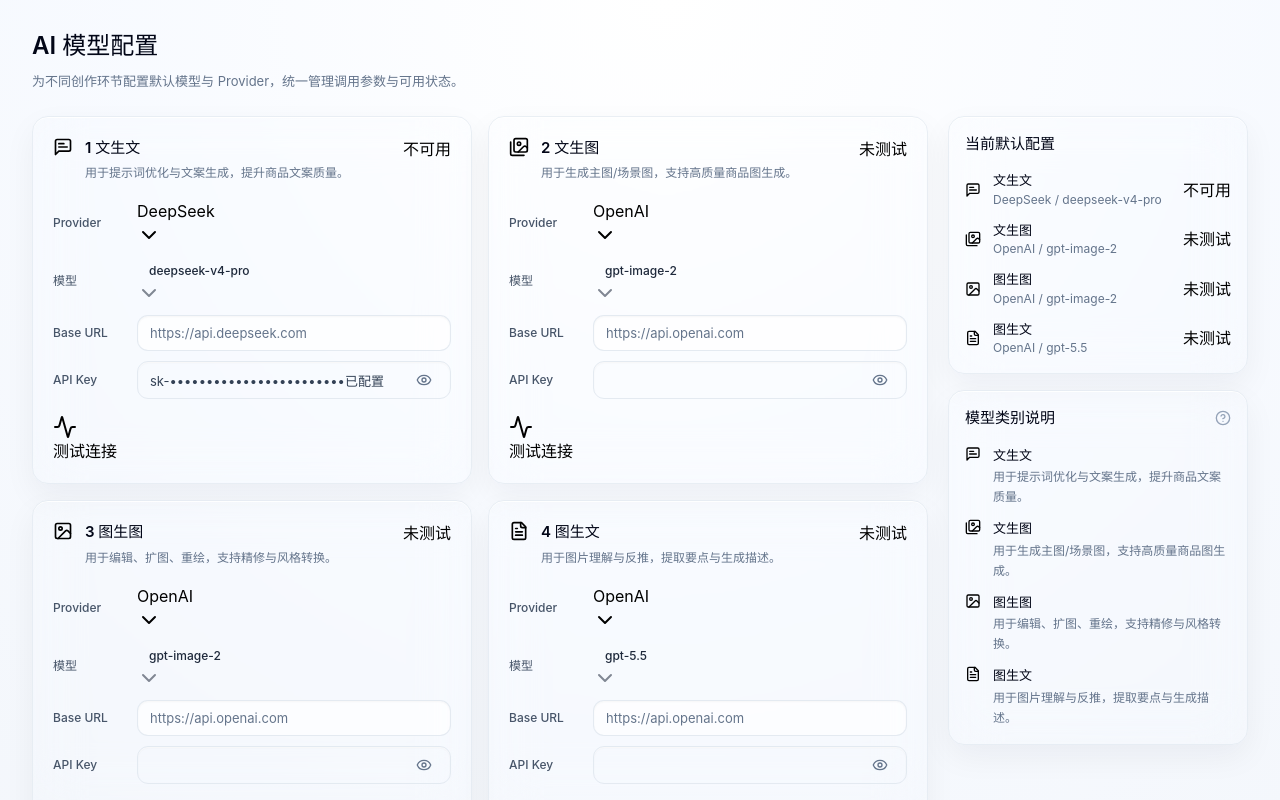
Test: ModelConfigPage › reveals saved API key on demand and removes the leading status dot
The image size is (1280, 800).
Expected: the field named "文生文 API Key" holds "sk-••••••••••••••••••••••••已配置", [150, 362, 404, 398]
Click the button named "显示文生文 API Key" at point(424, 380), box [412, 368, 436, 392]
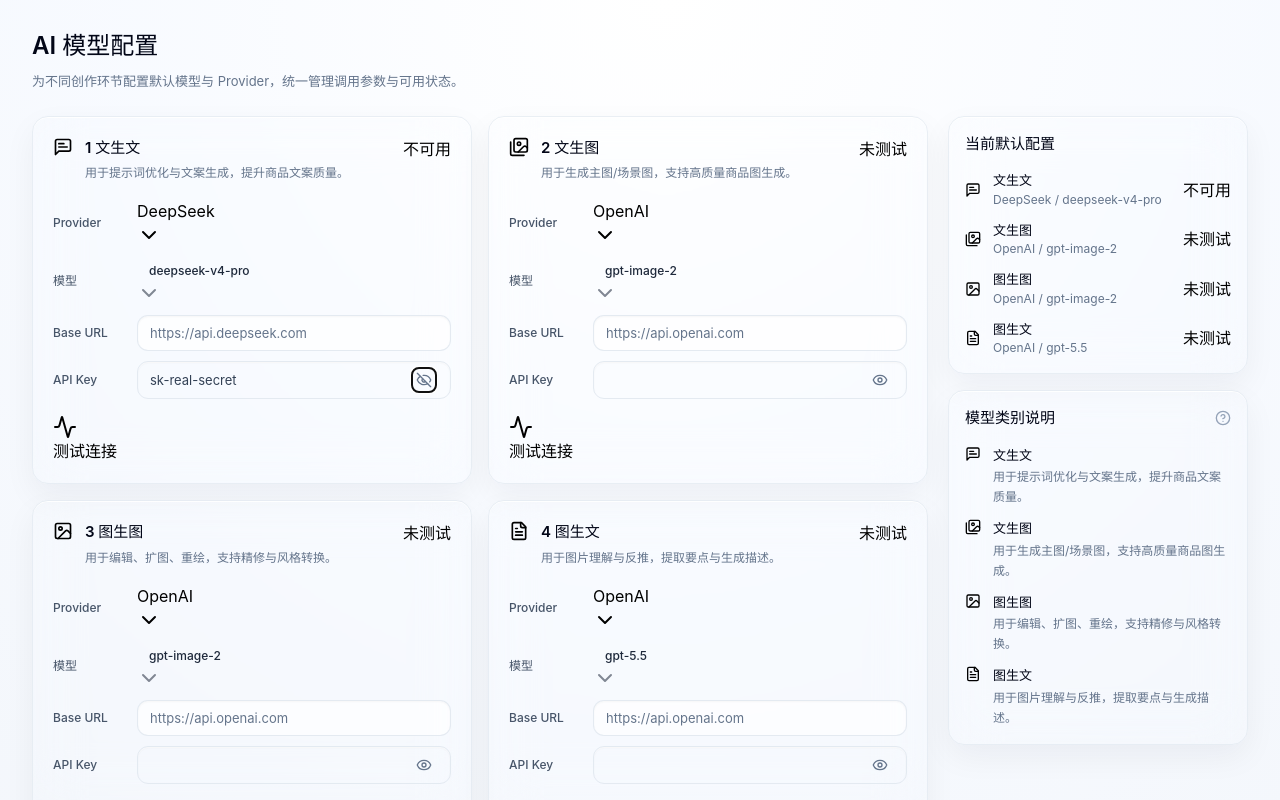
Expected: the text "sk-••••••••••••••••••••••••已配置" is not shown
Expected: the 1st field showing "sk-real-secret" is shown, [150, 362, 404, 398]
